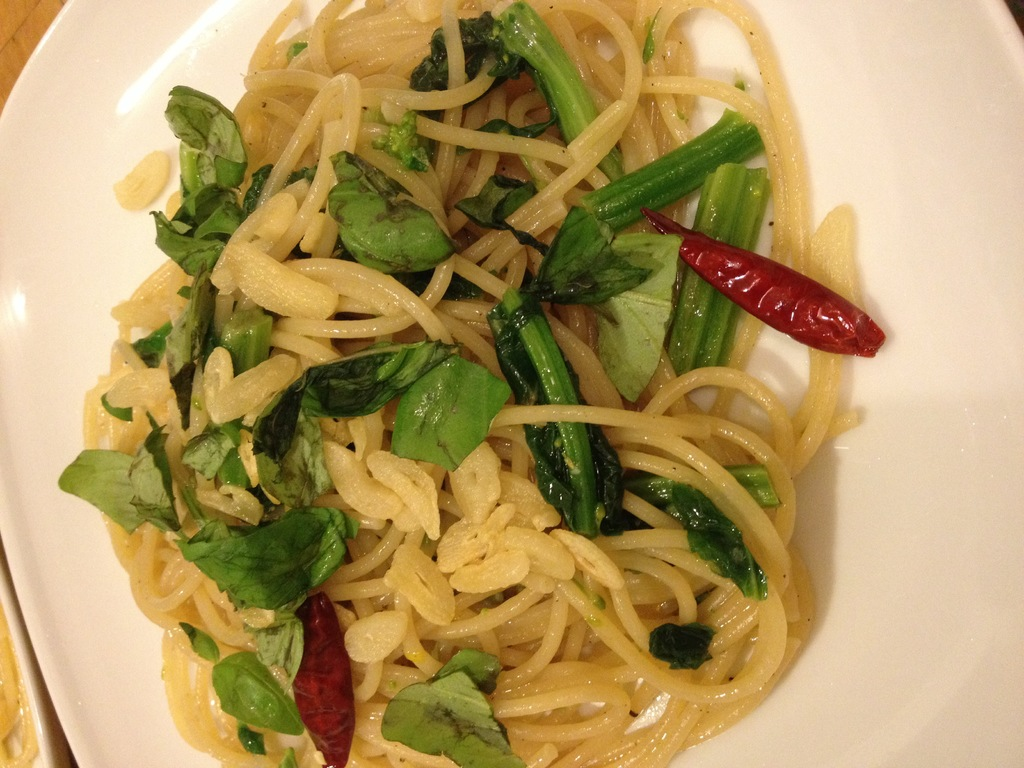pasta: (70, 0, 872, 749)
